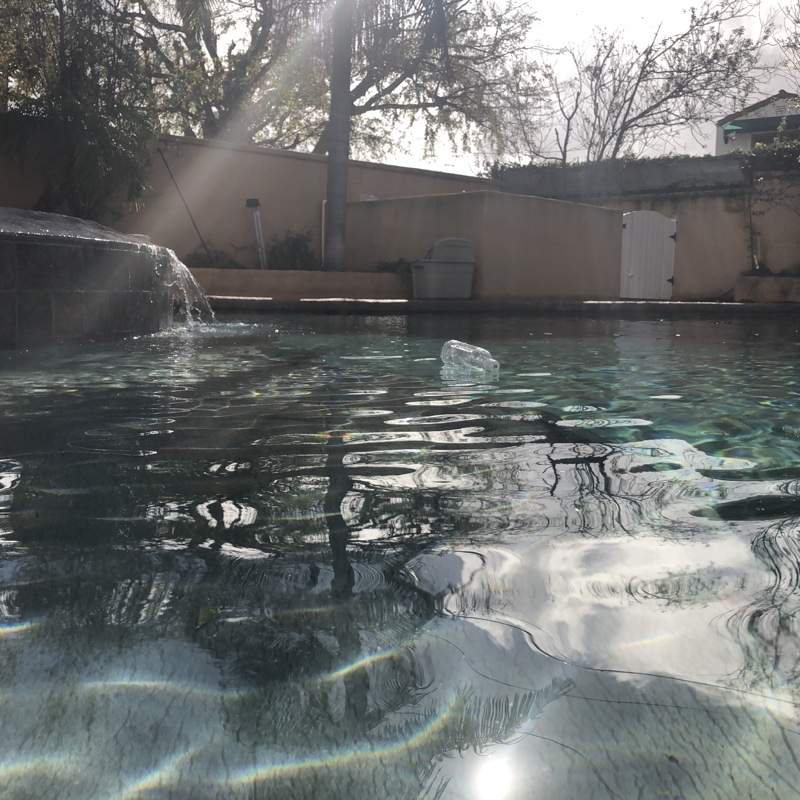Plastic Bottle: (435, 335, 499, 378)
